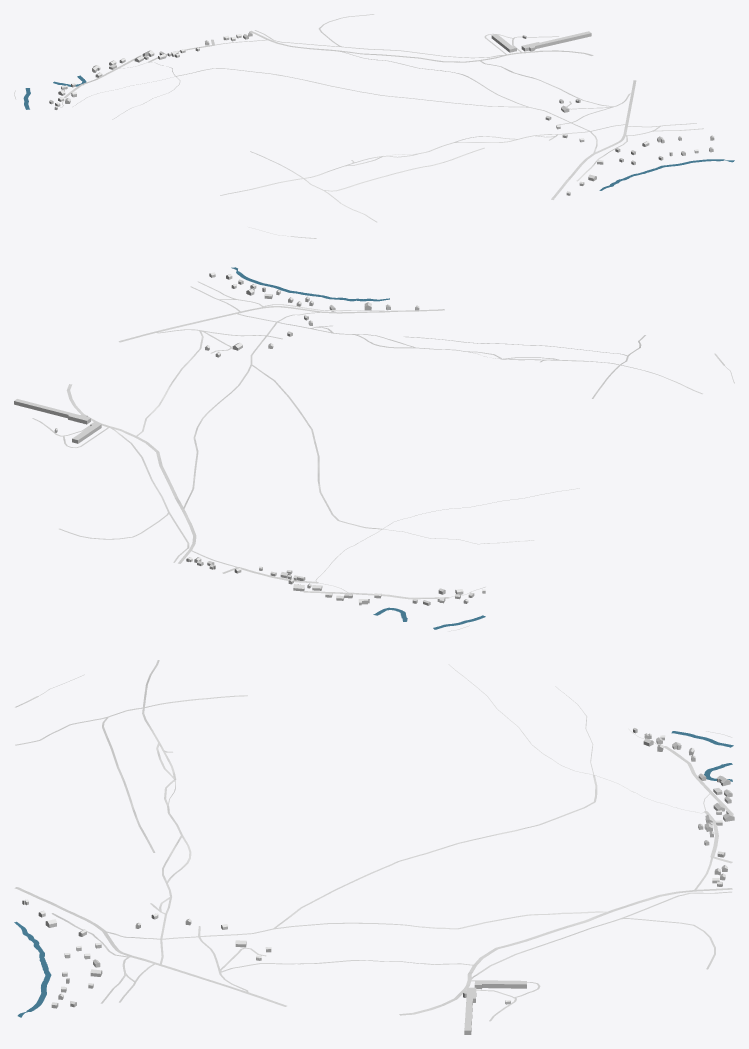
File: objekty.glb
3 views of the same model, one above another, from view 1: azimuth 30°, elevation 25°; view 2: azimuth 150°, elevation 25°; view 3: azimuth 270°, elevation 25° (orthographic). The views are drawn at different scales.
Parts seen in each view (by area): view 1: Cesty_03_02, Budovy_03_02, Voda_03_02; view 2: Cesty_03_02, Budovy_03_02, Voda_03_02; view 3: Cesty_03_02, Budovy_03_02, Voda_03_02.
Boxes of the visible parts, bbox=[...] form: Cesty_03_02: bbox=[14, 14, 703, 238]; Budovy_03_02: bbox=[49, 31, 714, 195]; Voda_03_02: bbox=[23, 75, 734, 190]; Cesty_03_02: bbox=[32, 281, 734, 631]; Budovy_03_02: bbox=[14, 272, 485, 605]; Voda_03_02: bbox=[231, 267, 485, 629]; Cesty_03_02: bbox=[14, 660, 733, 1021]; Budovy_03_02: bbox=[22, 728, 734, 1034]; Voda_03_02: bbox=[14, 731, 733, 1017].
Size of the model in its own units: 1057 by 126 by 1008.
